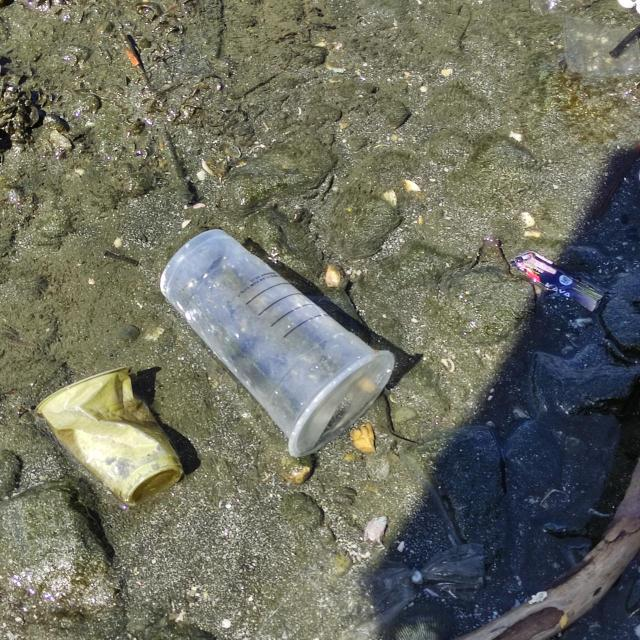plastic_waste: (161, 229, 397, 459), (40, 371, 189, 511), (513, 251, 609, 313)
